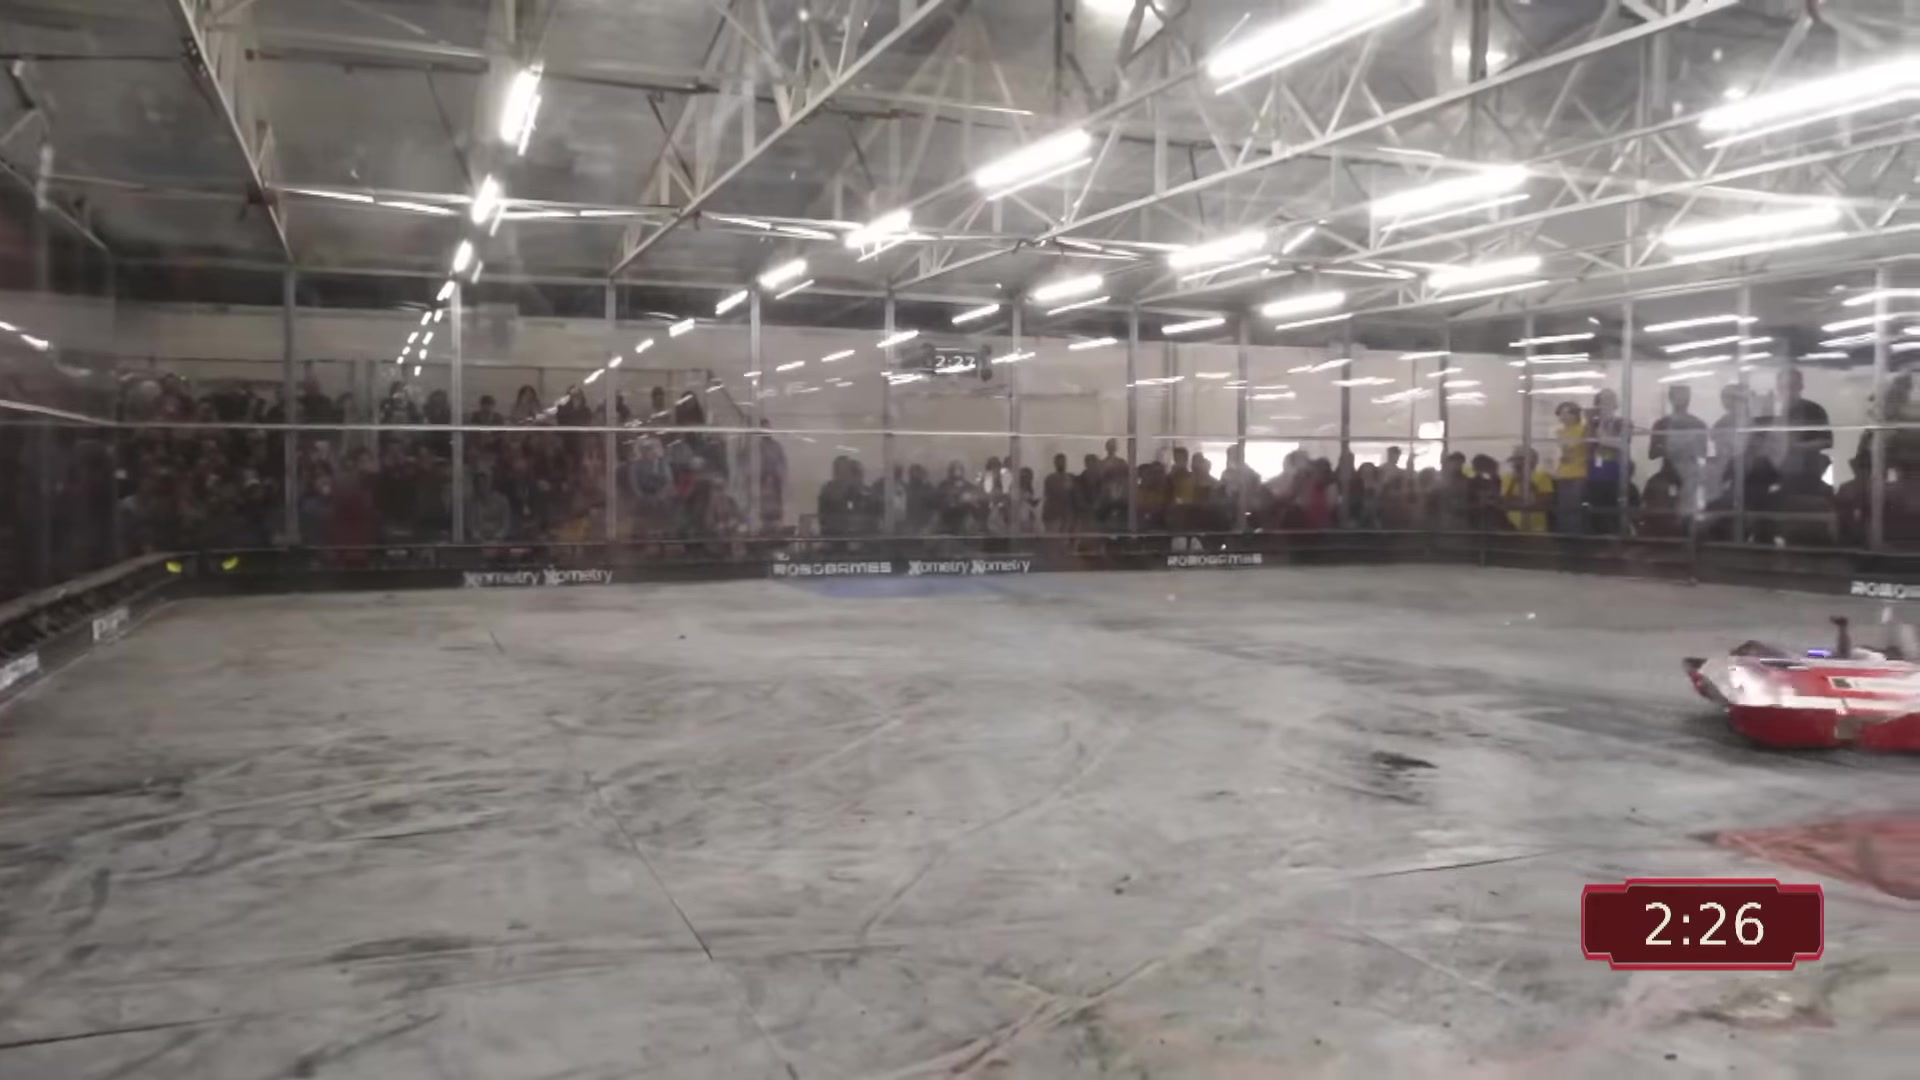combatbot: (1680, 637, 1920, 765)
